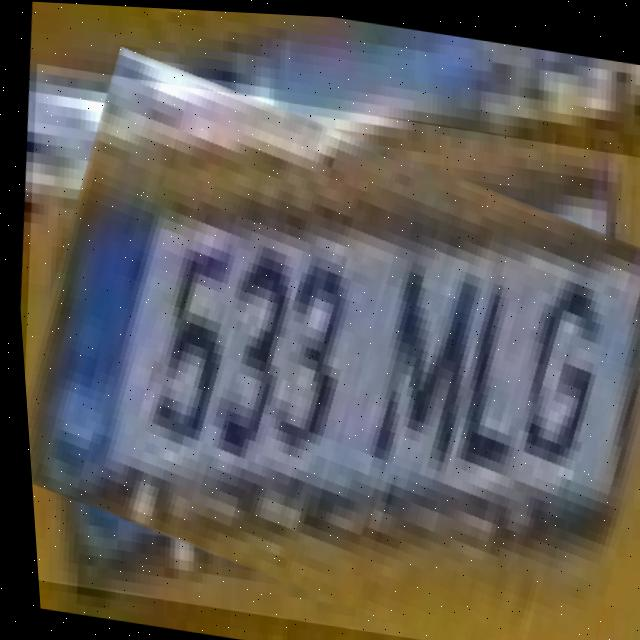LicensePlate: (3, 61, 640, 640)
